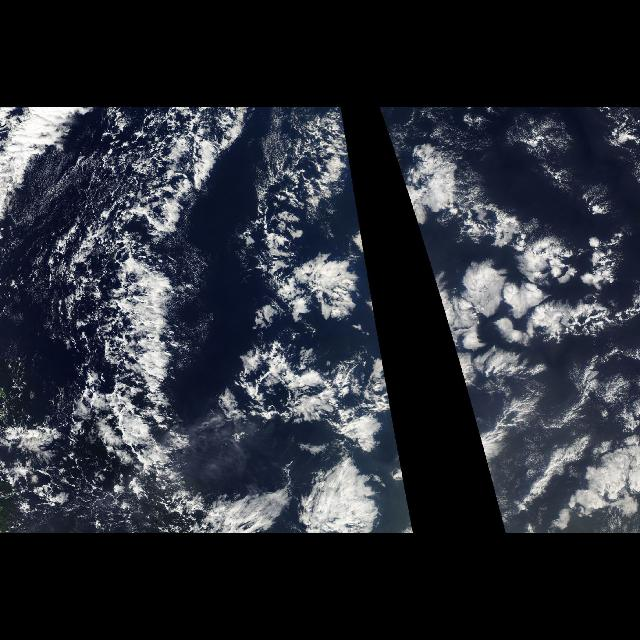Fish: (70, 117, 342, 528)
Flower: (391, 142, 624, 534), (314, 142, 414, 534)
